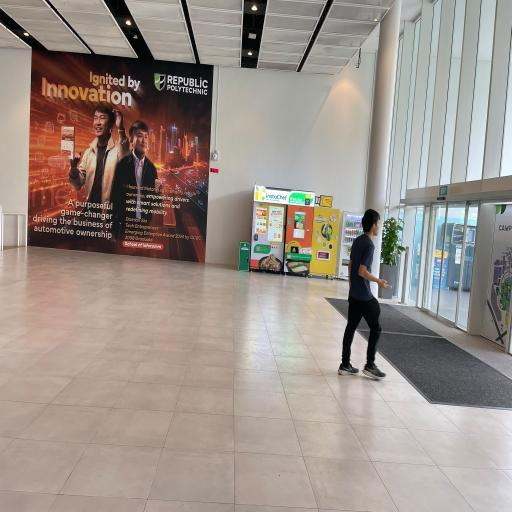person_right: (340, 202, 396, 388)
